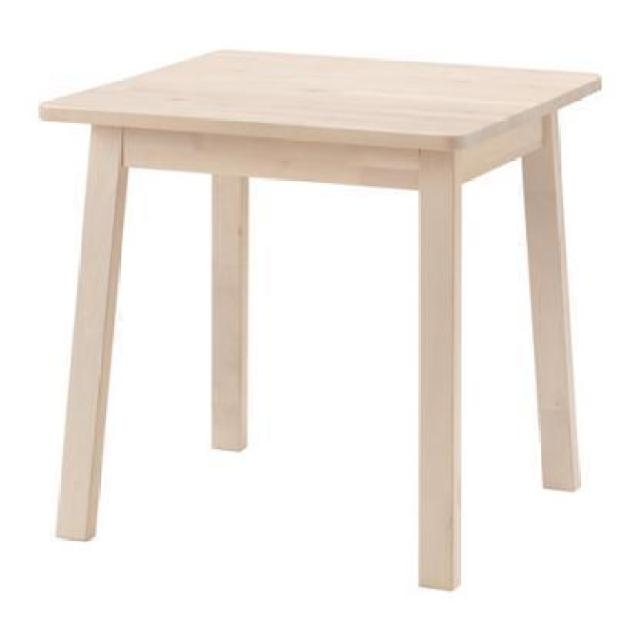tables: (37, 46, 601, 591)
